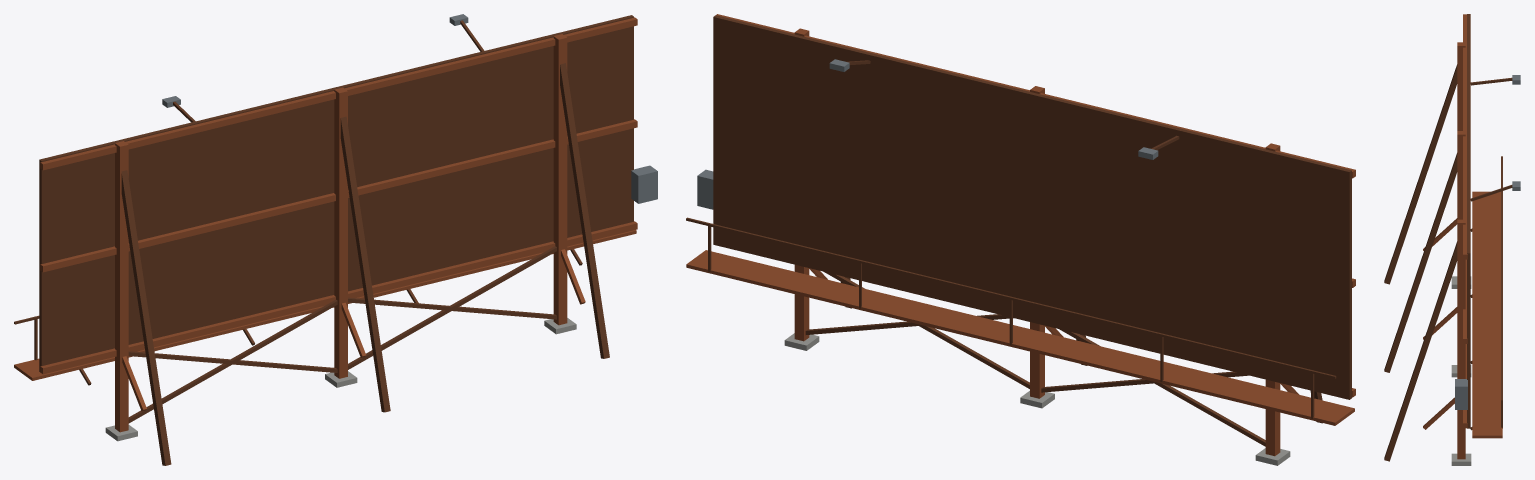
The model's file is billboard_roof_b.glb.
3 renders of one model, left to right at view 1: azimuth 30°, elevation 25°; view 2: azimuth 150°, elevation 25°; view 3: azimuth 270°, elevation 25°, orthographic. The views are drawn at different scales.
Parts seen in each view (by area): view 1: billboard_roof_b; view 2: billboard_roof_b; view 3: billboard_roof_b.
Boxes of the visible parts, x1,y1,x2,y2 form: billboard_roof_b: (14, 14, 657, 465); billboard_roof_b: (686, 14, 1355, 465); billboard_roof_b: (1384, 14, 1520, 465).
Size of the model in its own units: 12.62 by 5.93 by 2.93.
Materials: 3 (3 with a texture image).
